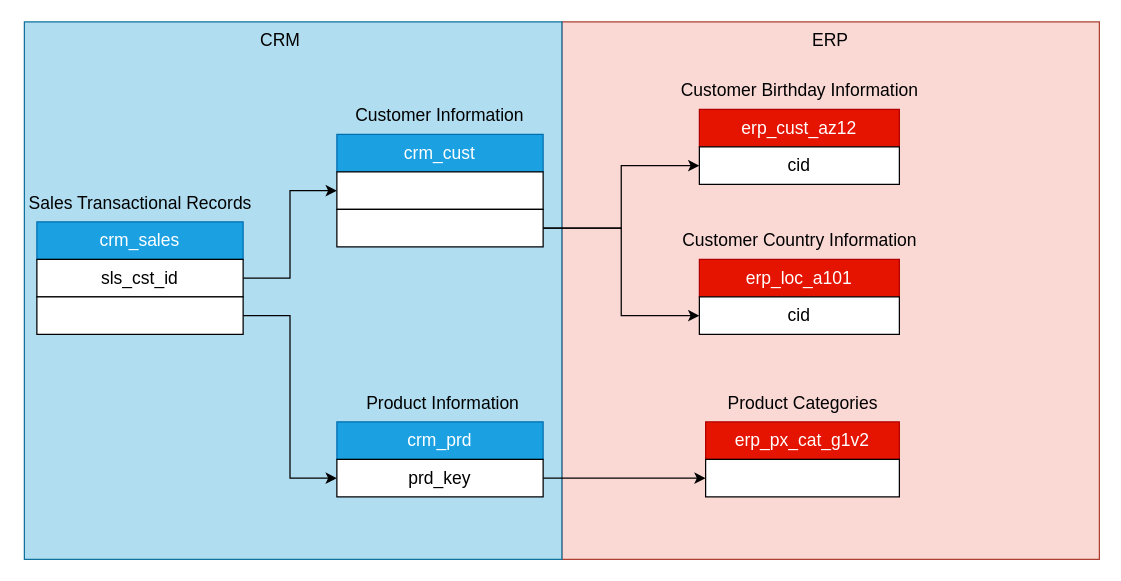
Image size: 1121x581. Some labels were removed from this diagram. Here are the shapes that lost their labels. From the top down, the box of each, then its label:
(336, 171, 543, 209): cst_id
(336, 208, 543, 247): cst_key
(36, 296, 243, 334): sls_prd_key
(704, 458, 899, 497): id
